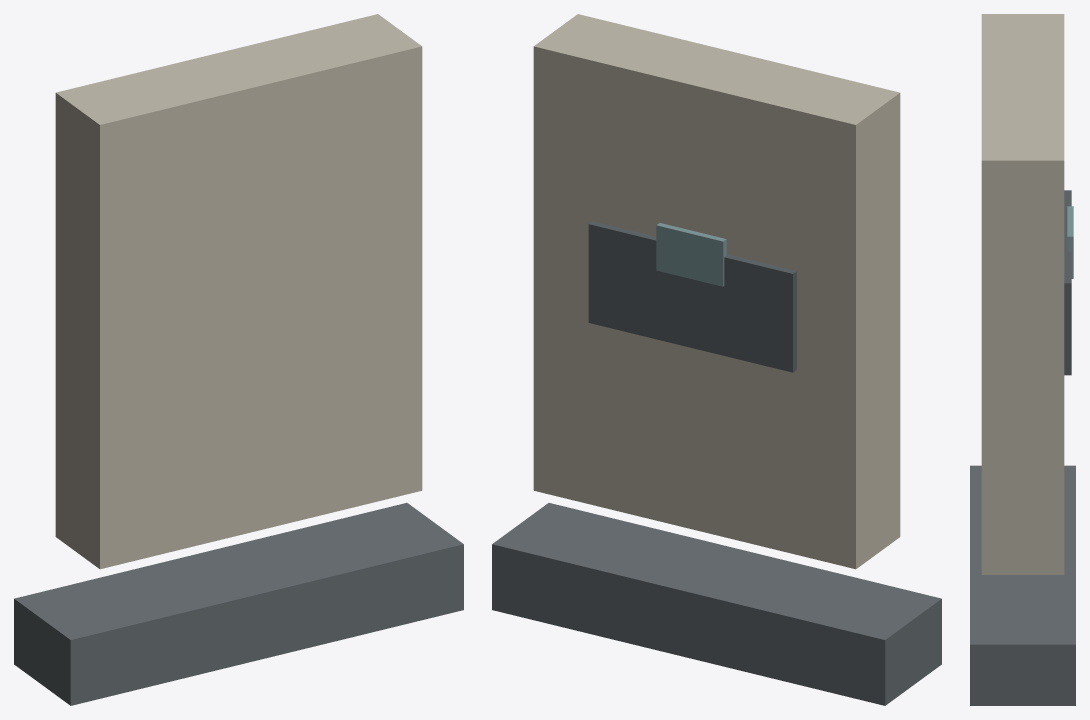
The model's file is iz3_military_radar_01.glb.
3 renders of one model, left to right at view 1: azimuth 30°, elevation 25°; view 2: azimuth 150°, elevation 25°; view 3: azimuth 270°, elevation 25°, orthographic. The views are drawn at different scales.
Parts seen in each view (by area): view 1: cabinet, base; view 2: cabinet, base, panel, display; view 3: cabinet, base, panel, display.
Boxes of the visible parts, <box> form: cabinet: <box>55,14,422,569</box>; base: <box>14,503,463,705</box>; cabinet: <box>533,14,900,569</box>; base: <box>492,503,941,705</box>; panel: <box>588,221,796,372</box>; display: <box>656,223,726,286</box>; cabinet: <box>981,14,1064,574</box>; base: <box>970,465,1075,705</box>; panel: <box>1064,190,1071,375</box>; display: <box>1067,206,1073,278</box>.
Bounding box in the file's own units: 2 × 2.76 × 0.5.
